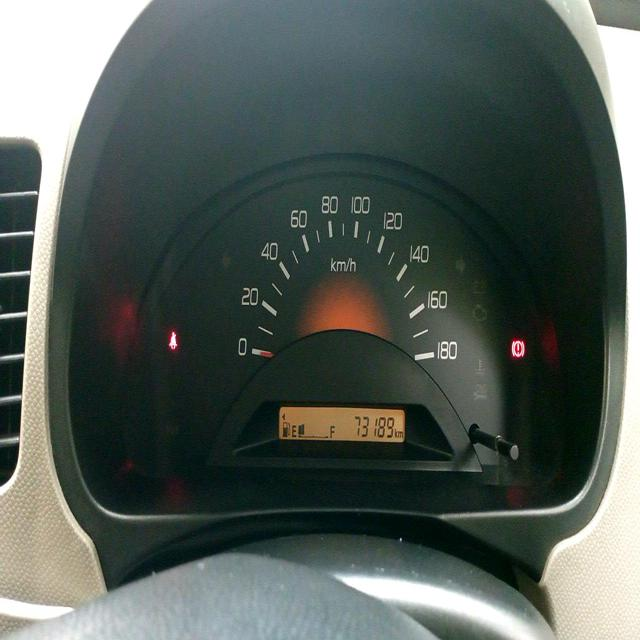odometer: (351, 407, 395, 443)
